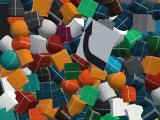Right: (76, 16, 118, 72)
